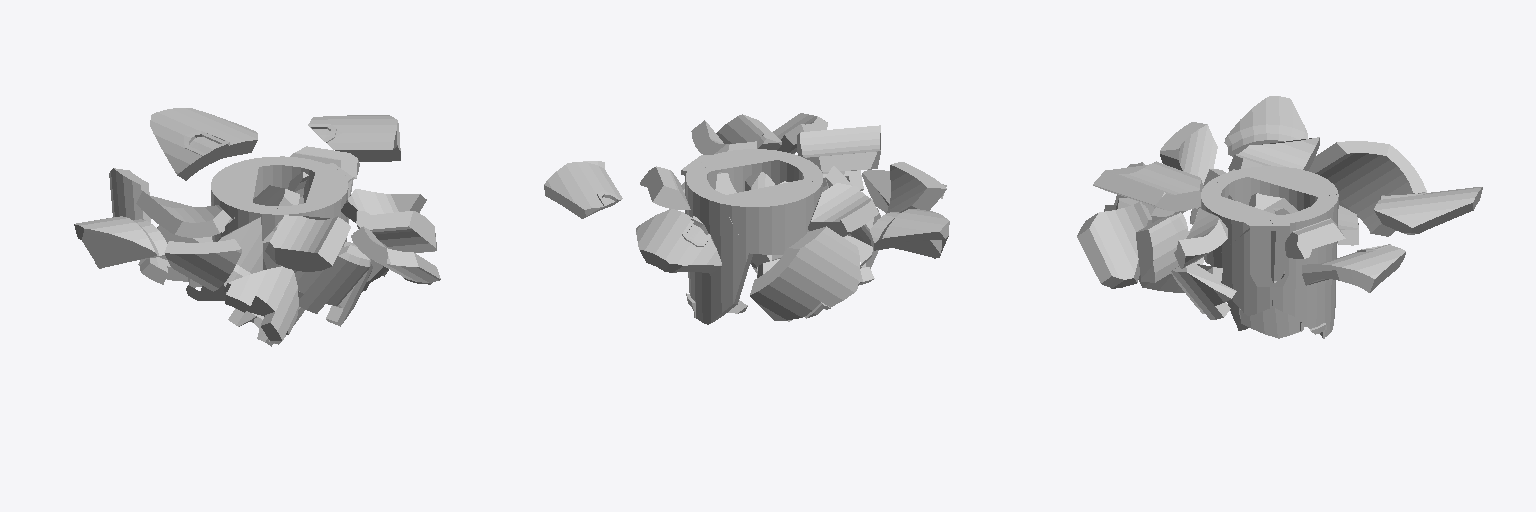
Rendered from destruction_tower_000057.obj.
3 renders of one model, left to right at view 1: azimuth 30°, elevation 25°; view 2: azimuth 150°, elevation 25°; view 3: azimuth 270°, elevation 25°, orthographic.
Parts seen in each view (by area): view 1: tower.001_cell.025_Mesh.025, tower.001_cell.024_Mesh.024, tower.001_cell.006_Mesh.006, tower.001_cell.005_Mesh.005, tower.001_cell.012_Mesh.012, tower.001_cell.011_Mesh.011, tower.001_cell.002_Mesh.002, tower.001_cell.009_Mesh.009, tower.001_cell_Mesh, tower.001_cell.021_Mesh.021, tower.001_cell.015_Mesh.015, tower.001_cell.028_Mesh.028 (+9 smaller); view 2: tower.001_cell.003_Mesh.003, tower.001_cell.017_Mesh.017, tower.001_cell.015_Mesh.015, tower.001_cell.025_Mesh.025, tower.001_cell.024_Mesh.024, tower.001_cell.012_Mesh.012, tower.001_cell.005_Mesh.005, tower.001_cell.028_Mesh.028, tower.001_cell.009_Mesh.009, tower.001_cell.002_Mesh.002, tower.001_cell_Mesh, tower.001_cell.016_Mesh.016 (+5 smaller); view 3: tower.001_cell.003_Mesh.003, tower.001_cell.021_Mesh.021, tower.001_cell.020_Mesh.020, tower.001_cell.024_Mesh.024, tower.001_cell.017_Mesh.017, tower.001_cell.025_Mesh.025, tower.001_cell.005_Mesh.005, tower.001_cell.012_Mesh.012, tower.001_cell.015_Mesh.015, tower.001_cell_Mesh, tower.001_cell.002_Mesh.002, tower.001_cell.028_Mesh.028 (+9 smaller).
Part boxes in pixels (x1,y1,x2,y2): tower.001_cell.025_Mesh.025: (150, 108, 257, 180); tower.001_cell.024_Mesh.024: (265, 215, 350, 271); tower.001_cell.006_Mesh.006: (224, 266, 298, 340); tower.001_cell.005_Mesh.005: (74, 216, 167, 268); tower.001_cell.012_Mesh.012: (308, 115, 400, 161); tower.001_cell.011_Mesh.011: (293, 245, 369, 313); tower.001_cell.002_Mesh.002: (164, 239, 241, 291); tower.001_cell.009_Mesh.009: (136, 191, 232, 237); tower.001_cell_Mesh: (356, 211, 436, 252); tower.001_cell.021_Mesh.021: (351, 226, 440, 284); tower.001_cell.015_Mesh.015: (211, 161, 258, 241); tower.001_cell.028_Mesh.028: (276, 173, 352, 221); tower.001_cell.003_Mesh.003: (750, 226, 859, 320); tower.001_cell.017_Mesh.017: (686, 174, 752, 324); tower.001_cell.015_Mesh.015: (723, 179, 821, 254); tower.001_cell.025_Mesh.025: (636, 209, 721, 273); tower.001_cell.024_Mesh.024: (797, 125, 880, 174); tower.001_cell.012_Mesh.012: (544, 161, 622, 218); tower.001_cell.005_Mesh.005: (870, 209, 949, 258); tower.001_cell.028_Mesh.028: (701, 149, 812, 192); tower.001_cell.009_Mesh.009: (808, 183, 878, 236); tower.001_cell.002_Mesh.002: (886, 162, 946, 213); tower.001_cell_Mesh: (716, 114, 781, 149); tower.001_cell.016_Mesh.016: (640, 166, 690, 209); tower.001_cell.003_Mesh.003: (1309, 141, 1426, 236); tower.001_cell.021_Mesh.021: (1077, 202, 1151, 288); tower.001_cell.020_Mesh.020: (1211, 221, 1275, 315); tower.001_cell.024_Mesh.024: (1093, 161, 1203, 211); tower.001_cell.017_Mesh.017: (1295, 194, 1338, 338); tower.001_cell.025_Mesh.025: (1374, 187, 1482, 234); tower.001_cell.005_Mesh.005: (1224, 96, 1307, 156); tower.001_cell.012_Mesh.012: (1302, 244, 1405, 292); tower.001_cell.015_Mesh.015: (1248, 166, 1337, 210); tower.001_cell_Mesh: (1136, 212, 1188, 282); tower.001_cell.002_Mesh.002: (1160, 122, 1217, 184); tower.001_cell.028_Mesh.028: (1201, 182, 1275, 264).
Bounding box in the file's own units: 127 × 51.65 × 126.